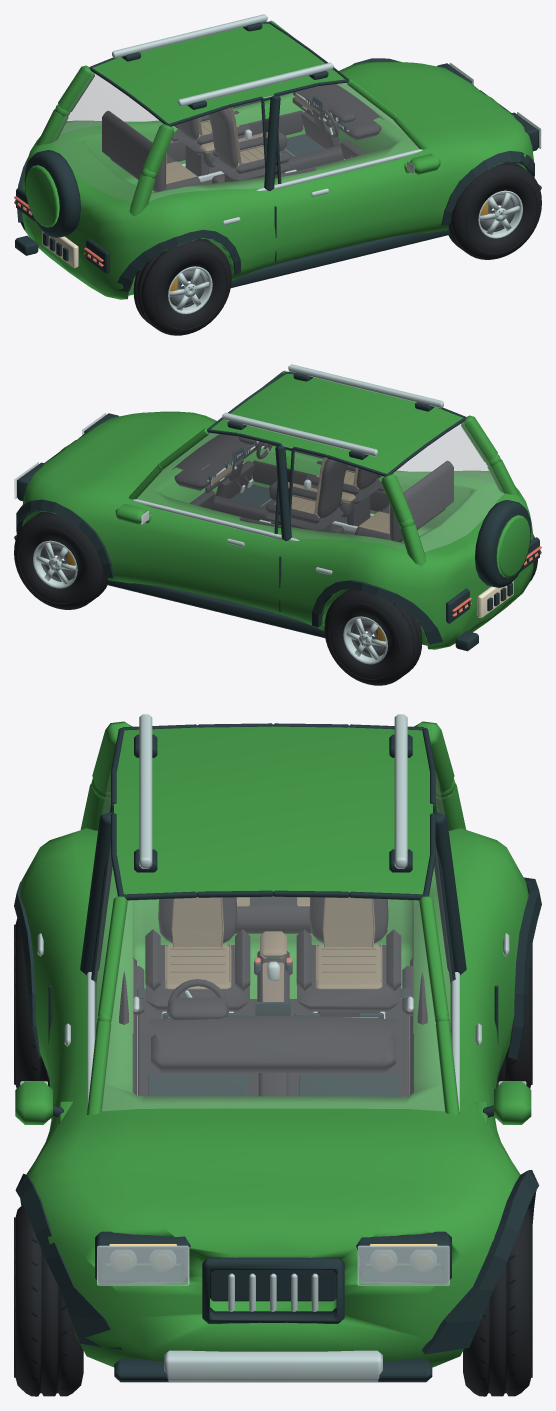
File: jeep.glb
3 renders of one model, top to bottom at view 1: azimuth 30°, elevation 25°; view 2: azimuth 150°, elevation 25°; view 3: azimuth 270°, elevation 25°, orthographic. The views are drawn at different scales.
Parts seen in each view (by area): view 1: Paint jeep, Automotive glass, Tyre rubber, Rolling wheels, Cabin upholstery, Wheel hubs, Tailored cabin leather, Warm white trim; view 2: Paint jeep, Automotive glass, Tyre rubber, Rolling wheels, Cabin upholstery, Wheel hubs, Tailored cabin leather, Warm white trim; view 3: Paint jeep, Automotive glass, Tyre rubber, Cabin upholstery, Rolling wheels, Wheel hubs, Tailored cabin leather, Lamp crystal, Seat stitching and console.
Part boxes in pixels (x1=…): Paint jeep: x1=22, y1=20, x2=533, y2=299; Automotive glass: x1=52, y1=72, x2=418, y2=201; Tyre rubber: x1=15, y1=21, x2=541, y2=292; Rolling wheels: x1=21, y1=162, x2=541, y2=335; Cabin upholstery: x1=102, y1=84, x2=383, y2=191; Wheel hubs: x1=112, y1=14, x2=422, y2=224; Tailored cabin leather: x1=166, y1=94, x2=316, y2=184; Warm white trim: x1=42, y1=118, x2=337, y2=267; Paint jeep: x1=22, y1=370, x2=533, y2=649; Automotive glass: x1=137, y1=422, x2=503, y2=551; Tyre rubber: x1=14, y1=371, x2=540, y2=651; Rolling wheels: x1=14, y1=511, x2=537, y2=685; Cabin upholstery: x1=172, y1=434, x2=453, y2=541; Wheel hubs: x1=133, y1=364, x2=443, y2=574; Tailored cabin leather: x1=211, y1=457, x2=389, y2=534; Warm white trim: x1=477, y1=581, x2=513, y2=618; Paint jeep: x1=15, y1=721, x2=531, y2=1367; Automotive glass: x1=94, y1=773, x2=452, y2=1110; Tyre rubber: x1=14, y1=723, x2=541, y2=1382; Cabin upholstery: x1=119, y1=896, x2=427, y2=1096; Rolling wheels: x1=14, y1=918, x2=532, y2=1396; Wheel hubs: x1=37, y1=714, x2=509, y2=1381; Tailored cabin leather: x1=132, y1=897, x2=413, y2=1033; Lamp crystal: x1=97, y1=1245, x2=449, y2=1285; Seat stitching and console: x1=164, y1=897, x2=381, y2=1018.
Size of the model in its own units: 1.98 by 0.8498 by 1.01.
